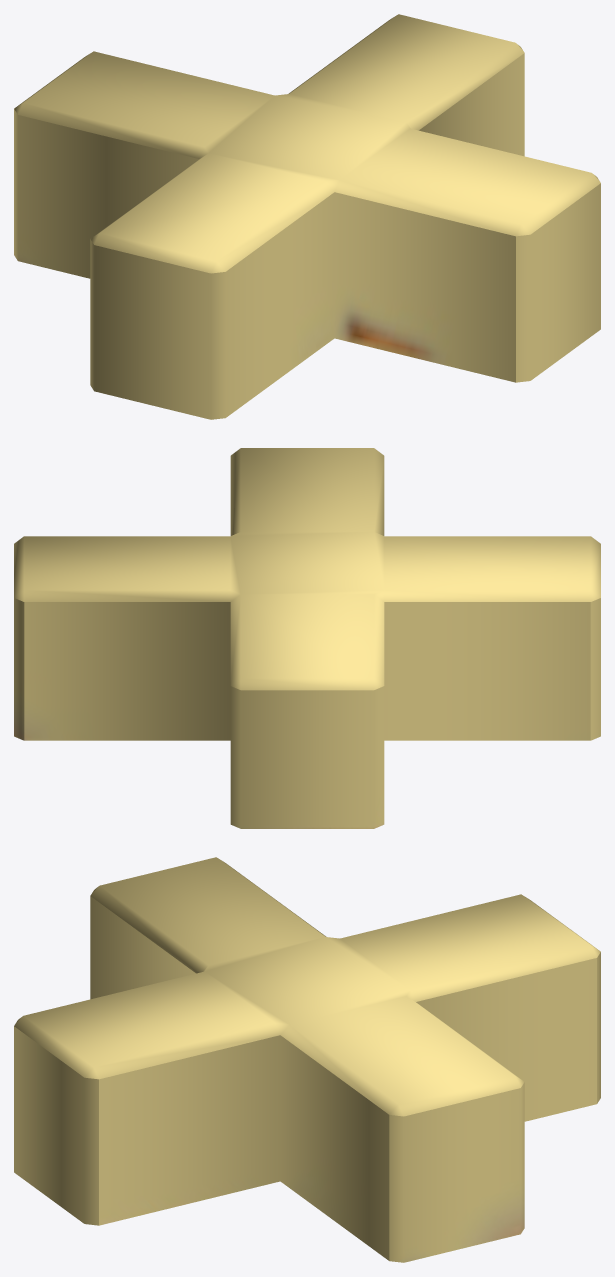
File: cruz.gltf
The picture shows the model from 3 angles, top to bottom: view 1: azimuth 30°, elevation 25°; view 2: azimuth 150°, elevation 25°; view 3: azimuth 270°, elevation 25°; orthographic projection. The views are drawn at different scales.
Parts seen in each view (by area): view 1: g; view 2: g; view 3: g.
Boxes of the visible parts, <box> form: g: <box>14,14,600,419</box>; g: <box>14,448,600,828</box>; g: <box>14,857,600,1262</box>.
Size of the model in its own units: 0.1069 by 0.0307 by 0.1039.
